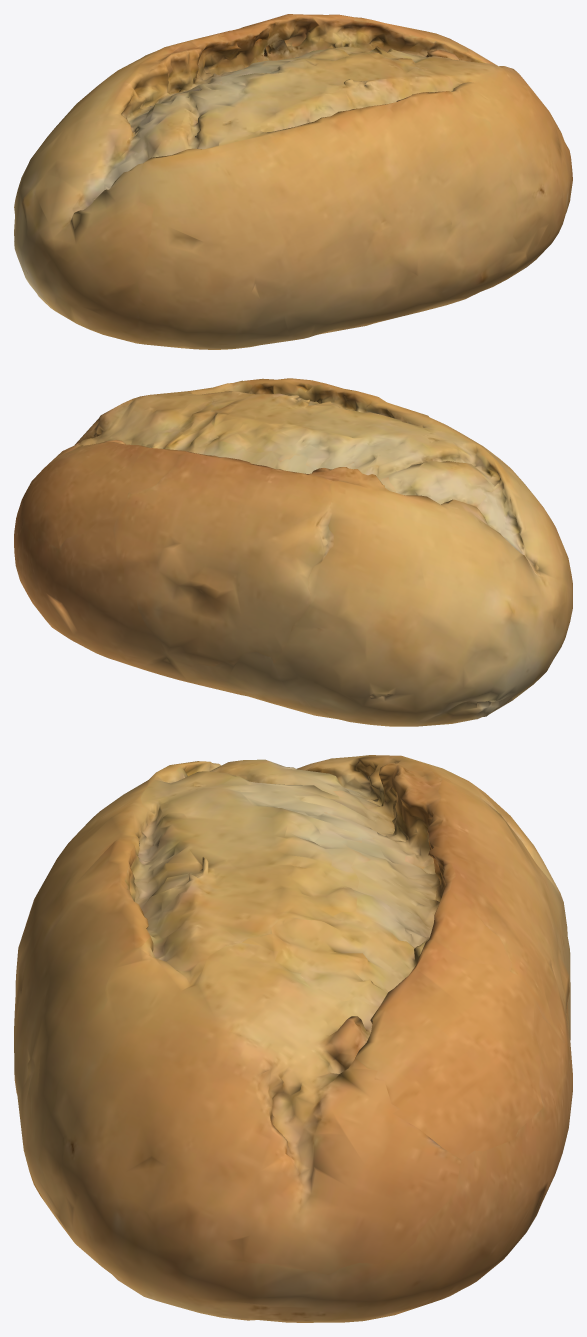
The model's file is bread-baguette.glb.
3 renders of one model, top to bottom at view 1: azimuth 30°, elevation 25°; view 2: azimuth 150°, elevation 25°; view 3: azimuth 270°, elevation 25°, orthographic. The views are drawn at different scales.
Parts seen in each view (by area): view 1: bread-baguette; view 2: bread-baguette; view 3: bread-baguette.
Part boxes in pixels (x1,y1,x2,y2): bread-baguette: (14,14,572,349); bread-baguette: (14,378,572,726); bread-baguette: (14,755,572,1322).
Size of the model in its own units: 0.1298 by 0.0543 by 0.0816.
Materials: 1 (1 with a texture image).
